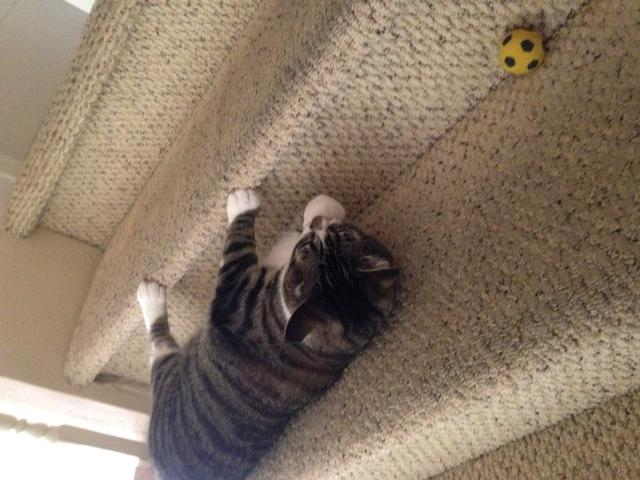playdoh: (134, 179, 407, 480)
